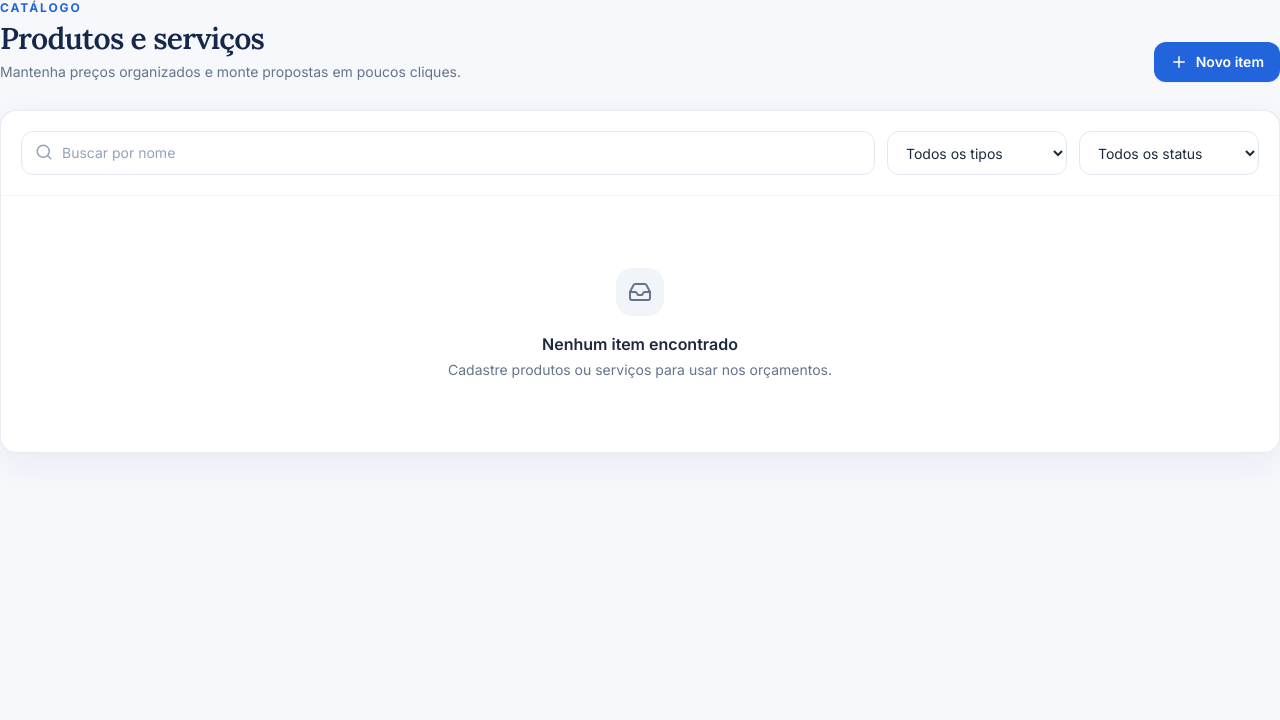
Scenario: ProductsPage › erro conhecido em unit_price aparece no campo (protege o split FormInput/FormOutput)
Click the button "Novo item" at (1217, 62), box [1154,42,1279,82]
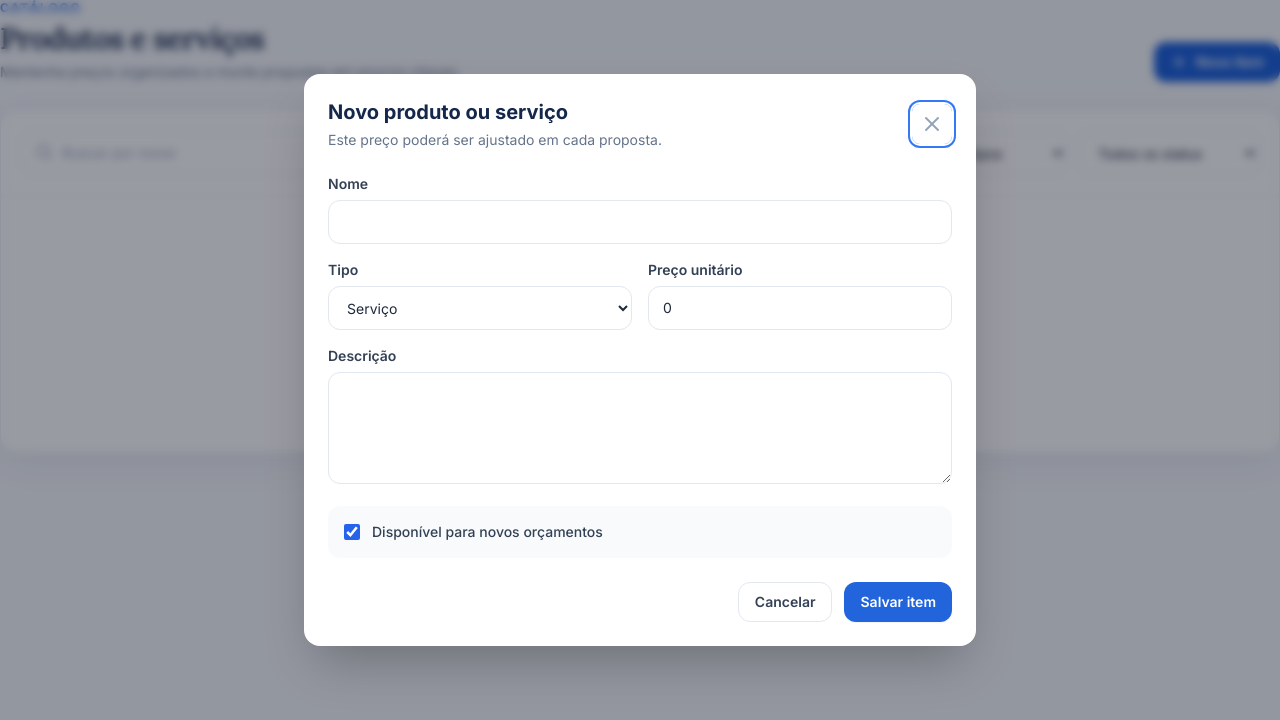
Type "Produto Teste" into the field labelled "Nome" at (640, 222), box [328,200,952,244]
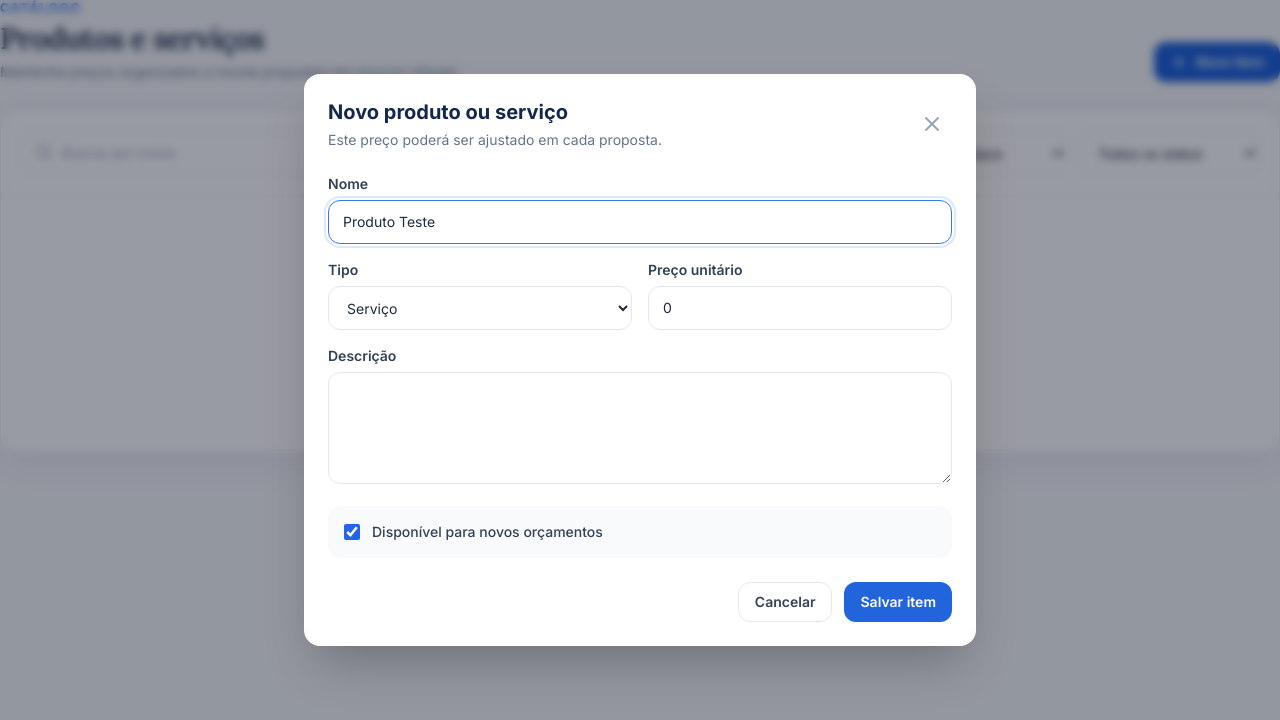
Click the button "Salvar item" at (898, 602), box [844,582,952,622]
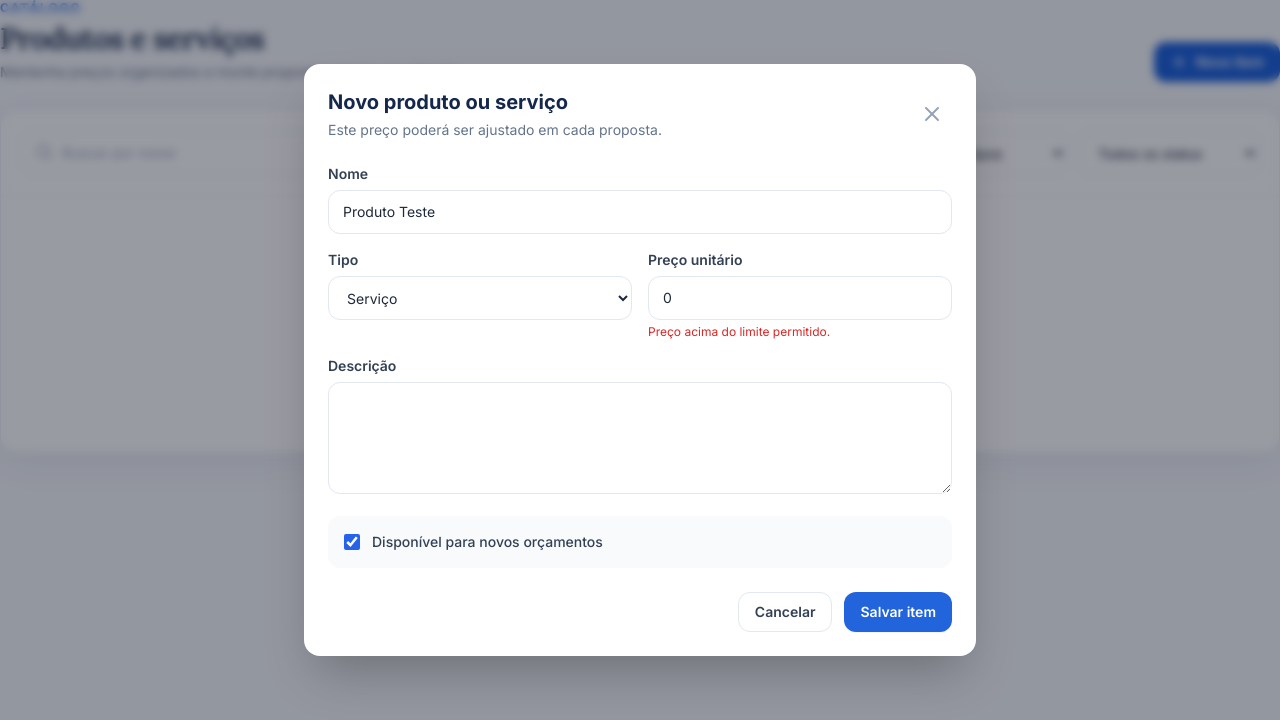
Expected: the text "Preço acima do limite permitido." is shown, [648,324,830,339]
